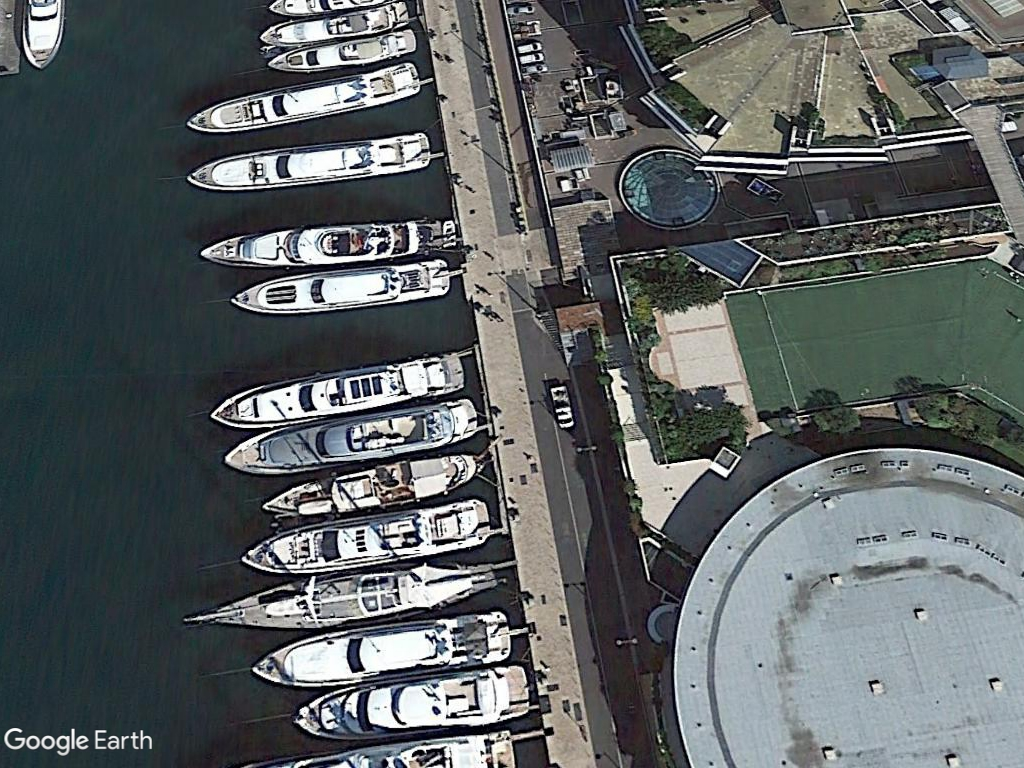boat: (186, 553, 512, 645), (239, 608, 523, 692), (219, 396, 490, 484), (205, 347, 476, 430), (240, 493, 500, 575), (293, 662, 532, 741), (190, 61, 432, 137), (189, 128, 436, 194), (200, 215, 460, 274), (263, 450, 482, 520), (227, 257, 463, 315), (258, 1, 412, 47), (268, 28, 421, 74)
truck: (548, 382, 577, 433)
